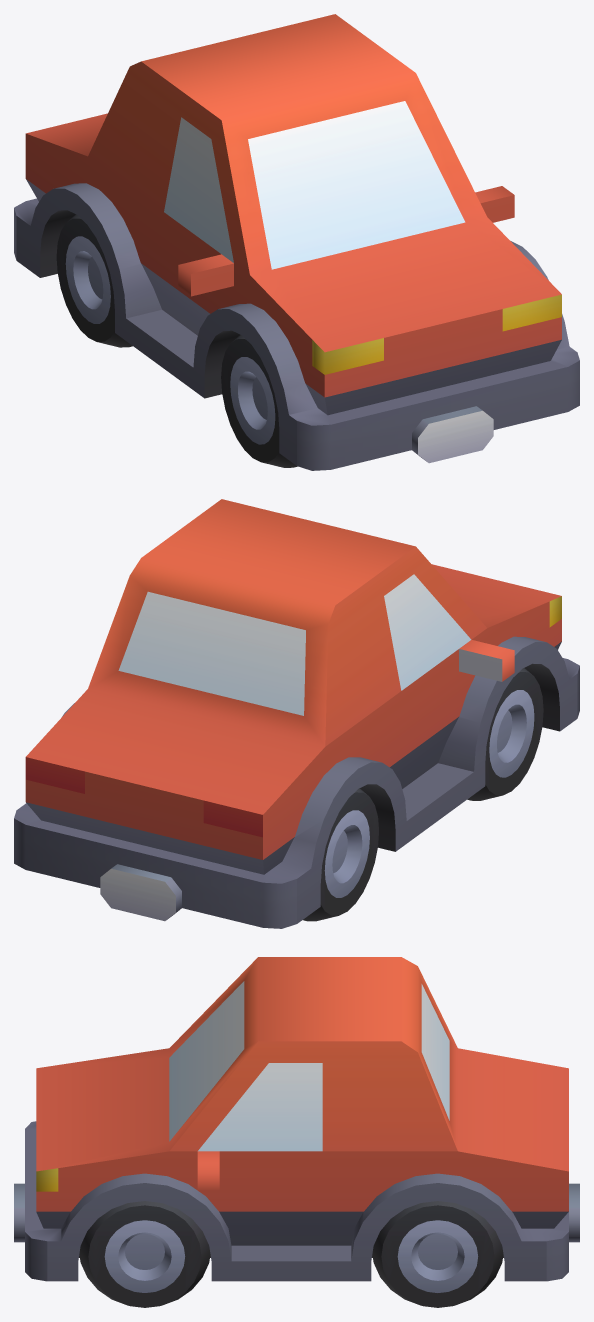
The model's file is sedan.glb.
The picture shows the model from 3 angles, top to bottom: view 1: azimuth 30°, elevation 25°; view 2: azimuth 150°, elevation 25°; view 3: azimuth 270°, elevation 25°; orthographic projection. The views are drawn at different scales.
Parts seen in each view (by area): view 1: wheel-front-right; view 2: wheel-front-right; view 3: wheel-front-right.
Boxes of the visible parts, x1,y1,x2,y2 form: wheel-front-right: [14, 14, 579, 470]; wheel-front-right: [14, 499, 579, 928]; wheel-front-right: [14, 957, 579, 1307].
Bounding box in the file's own units: 1.5 × 1.3 × 2.55.
1 material, 1 textured.
